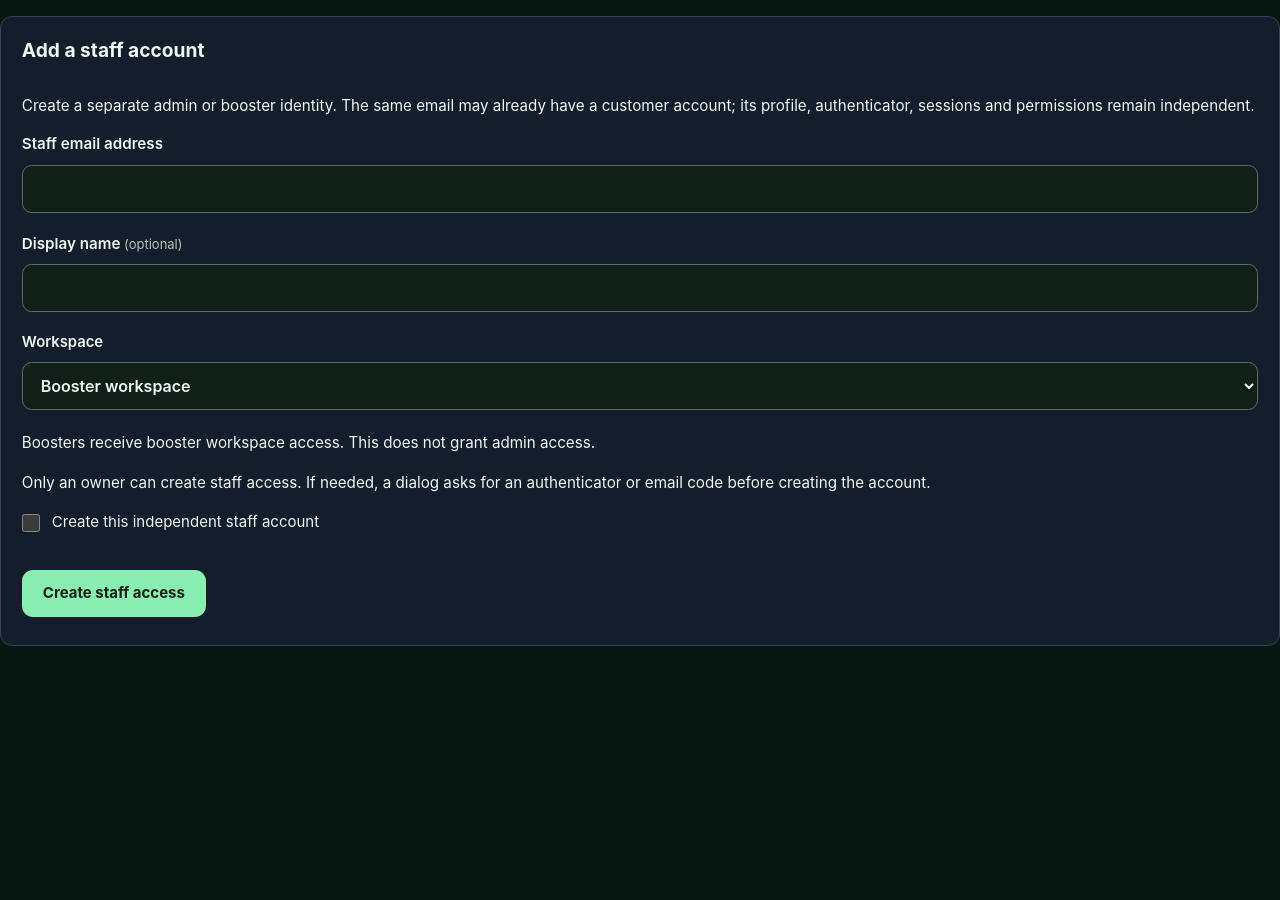
keeps a failed sensitive action inside admin verification
Type "same@example.test" into the field labelled "Staff email address". click: {"x": 640, "y": 189}
box: 22,165 -> 1258,213
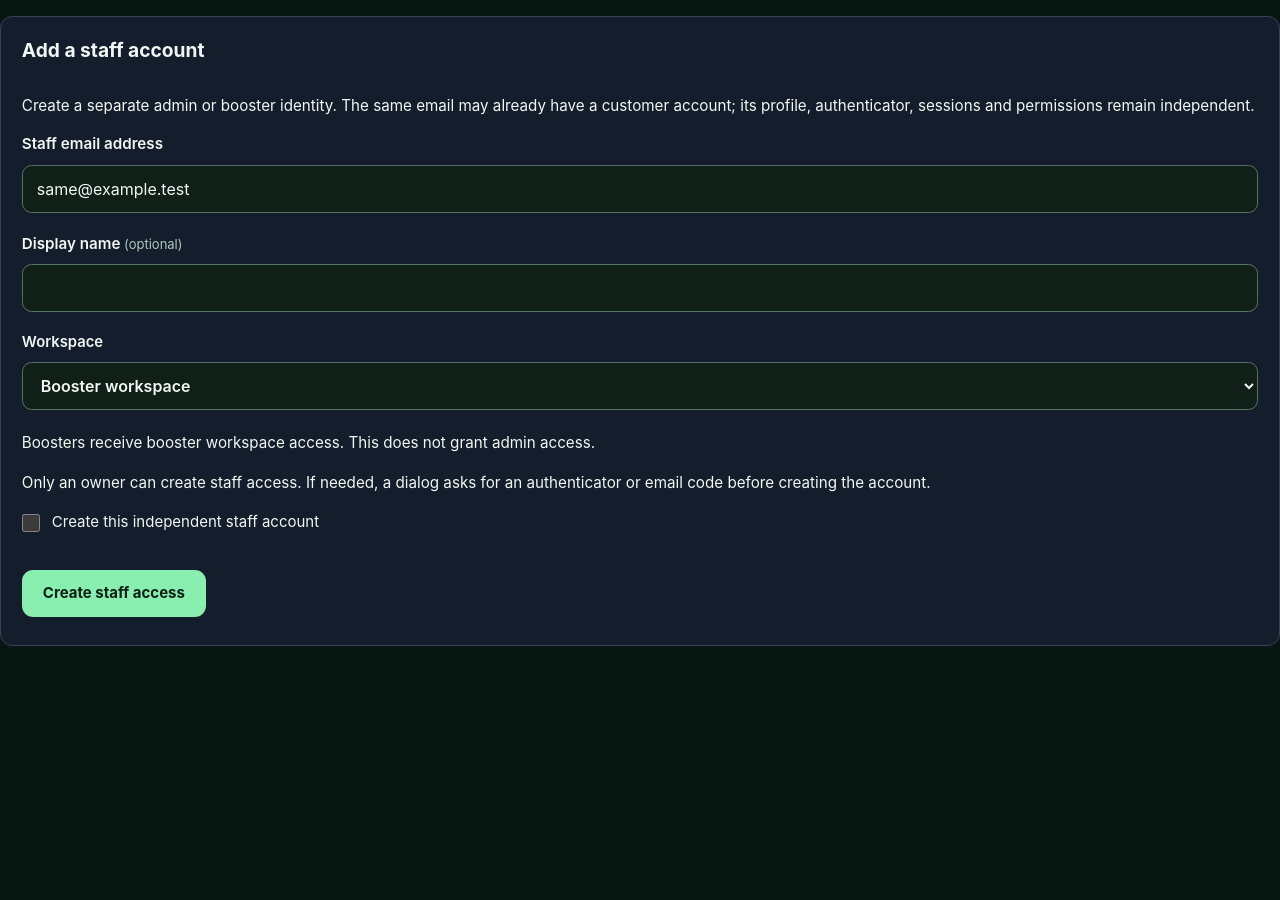
Type "New staff" into the field labelled "Display name (optional)". click: {"x": 640, "y": 288}
box: 22,264 -> 1258,312
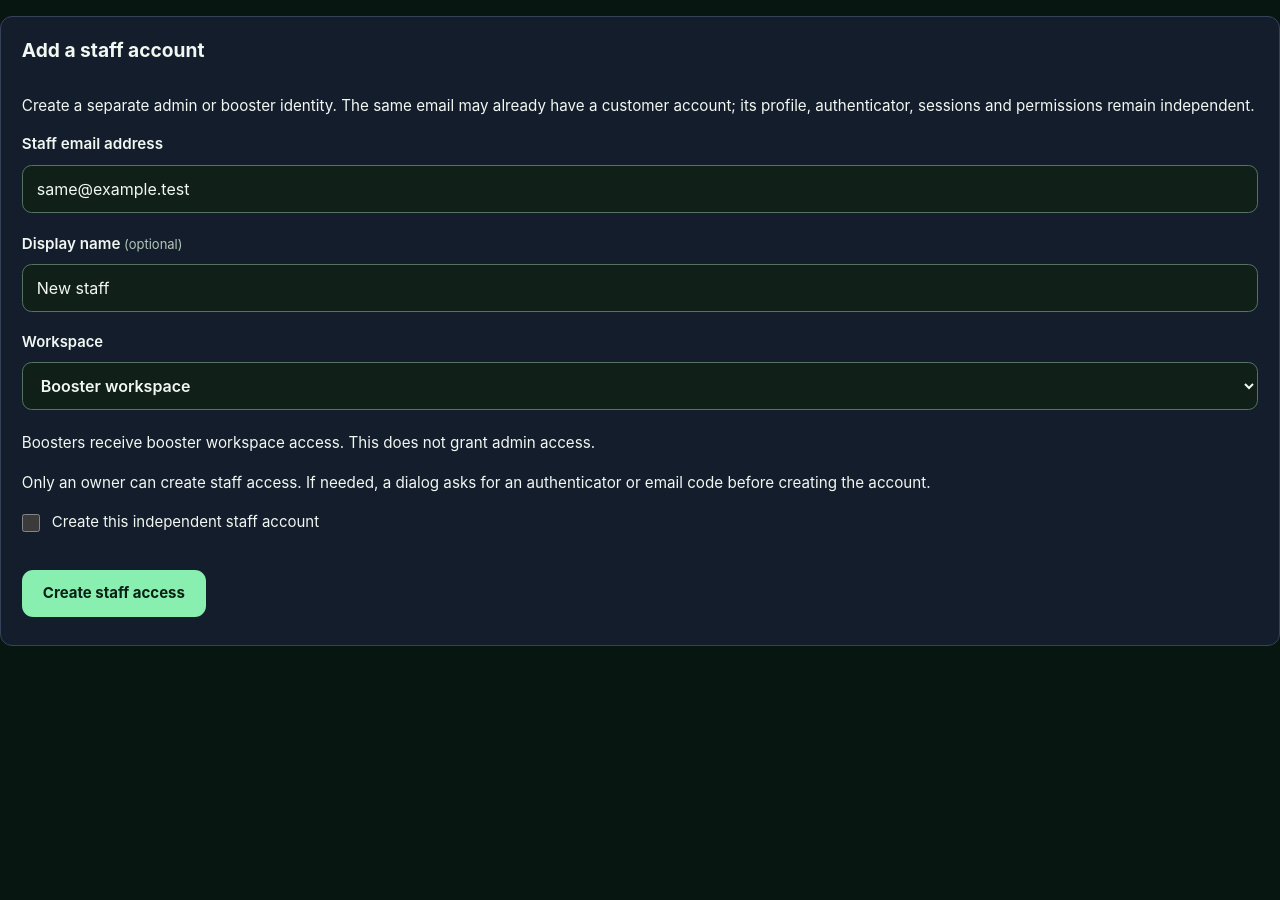
Select "Admin workspace" in the dropdown labelled "Workspace". click: {"x": 640, "y": 386}
box: 22,362 -> 1258,410
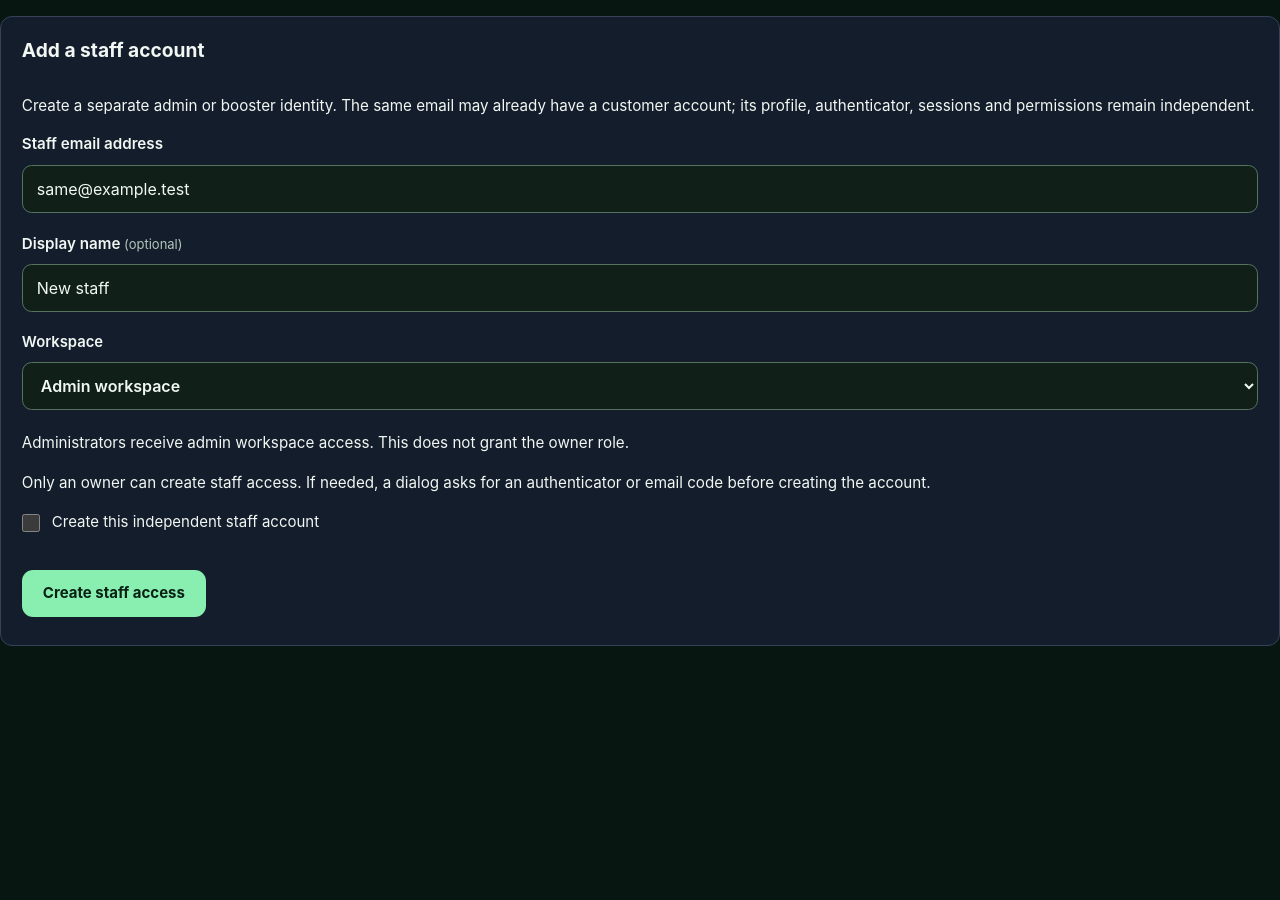
Click the checkbox. click: {"x": 31, "y": 522}
box: 22,514 -> 40,532
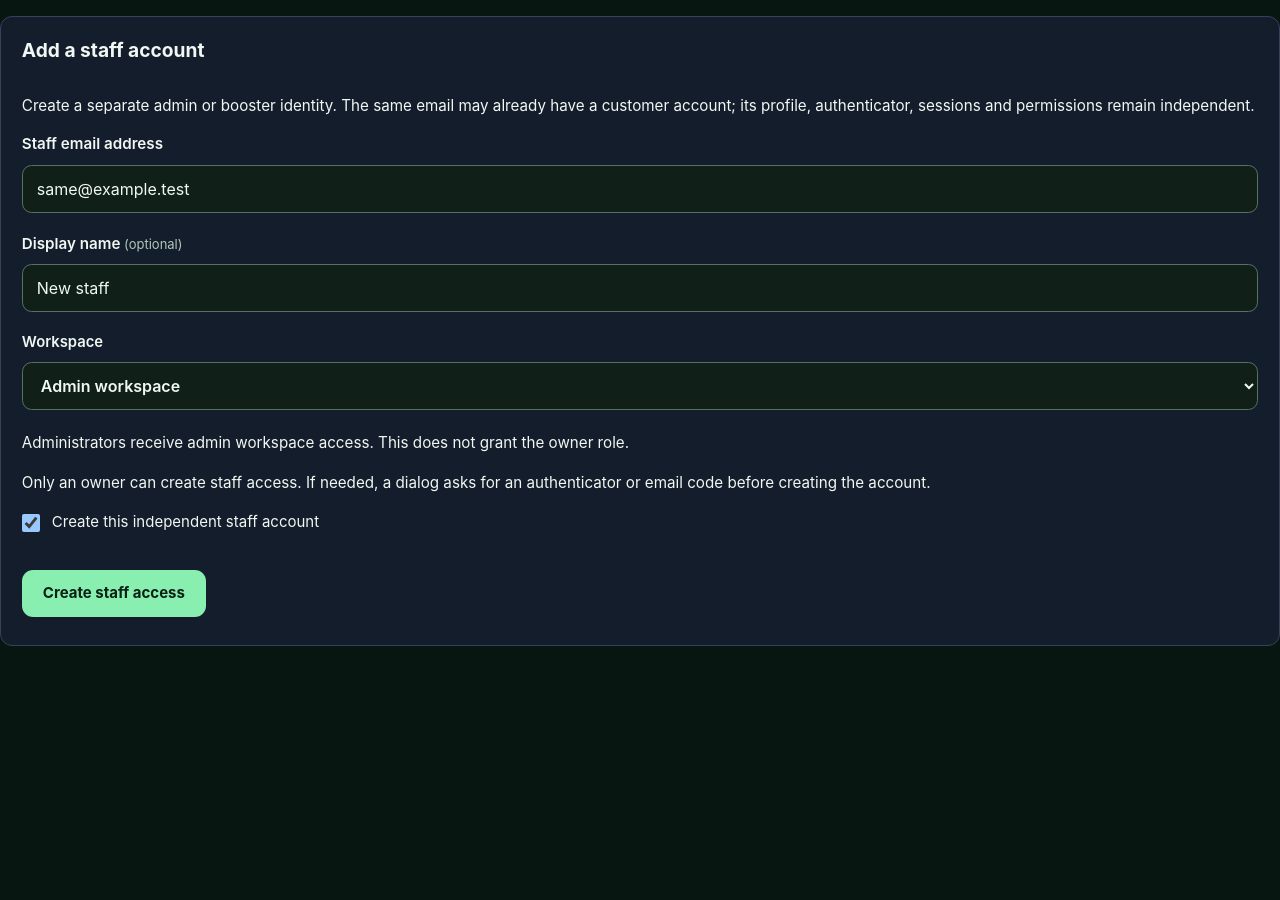
Submit the form named "Create staff access"
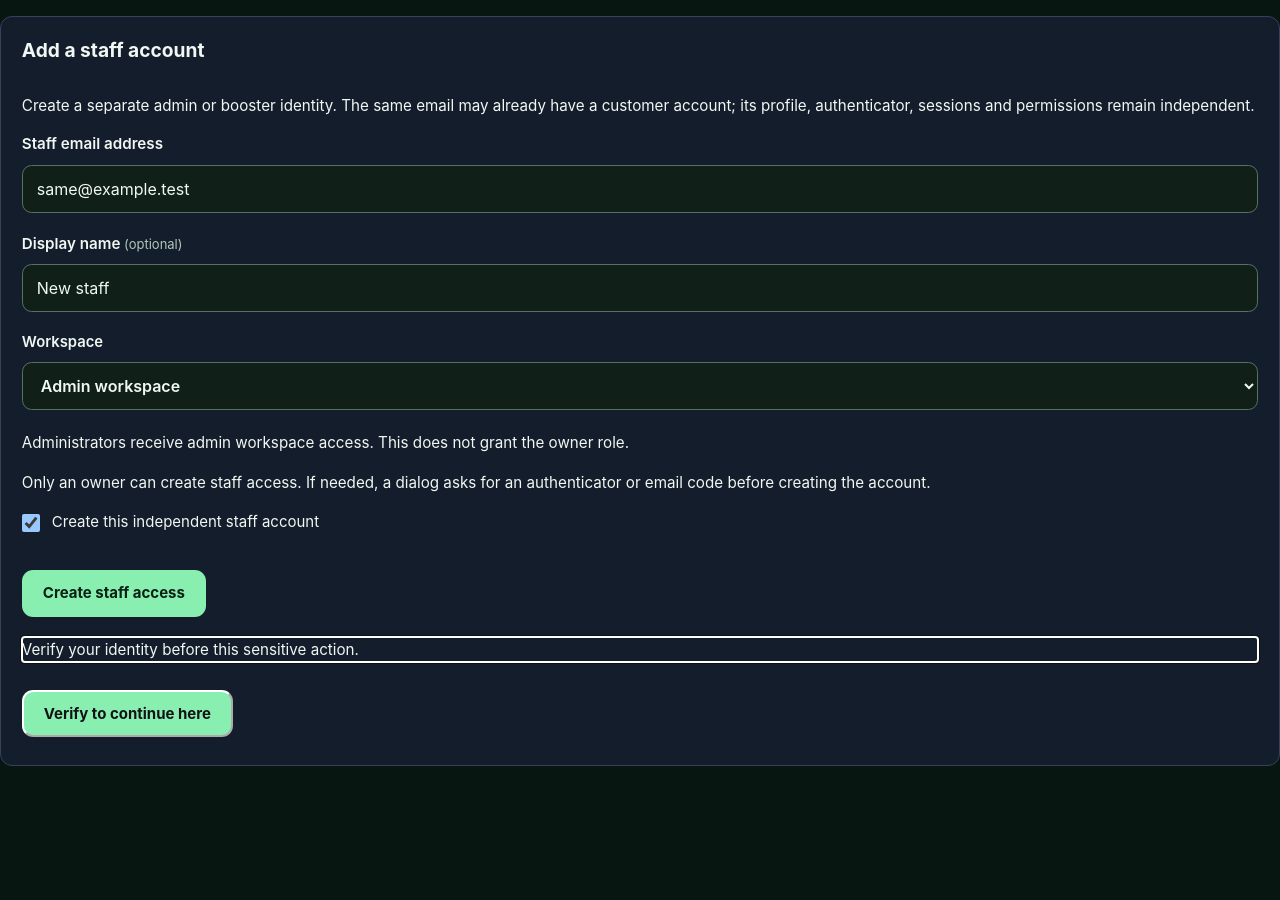
Check: the button "Create staff access" is enabled, box 22,570 -> 206,617
Check: the message "Verify your identity before this sensitive action." is shown, box 22,640 -> 359,659
Check: the button "Verify to continue here" is shown, box 22,690 -> 233,737
